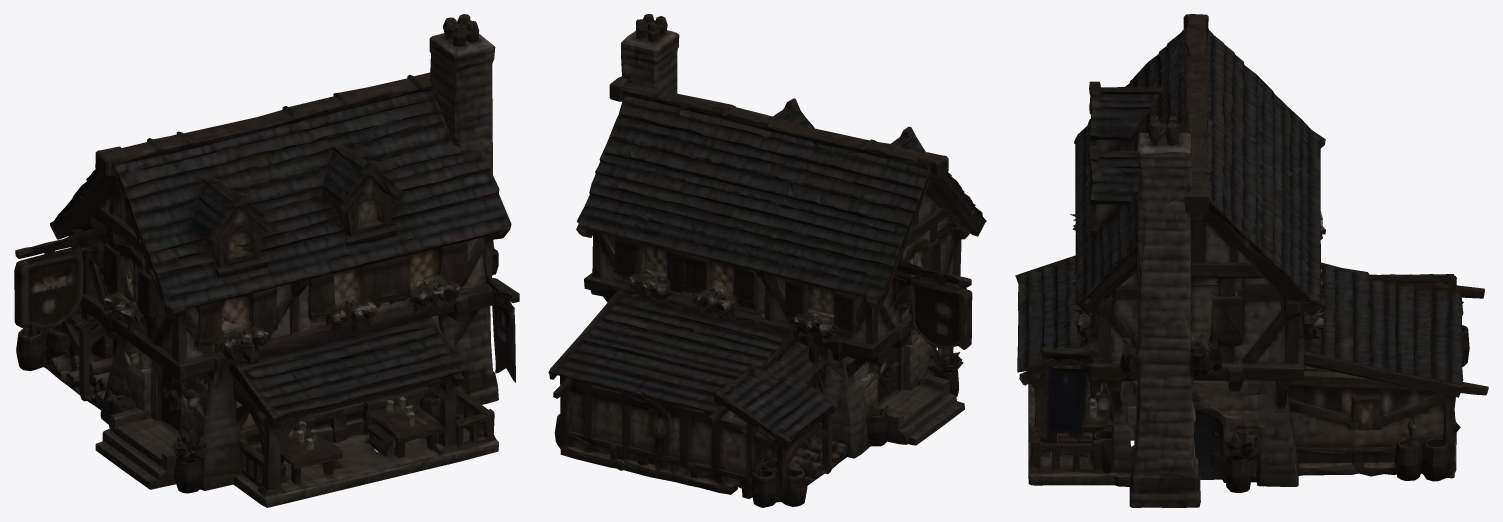
The model's file is war_tavern_gutted_01.glb.
3 views of the same model, side by side, from view 1: azimuth 30°, elevation 25°; view 2: azimuth 150°, elevation 25°; view 3: azimuth 270°, elevation 25° (orthographic). The views are drawn at different scales.
Parts seen in each view (by area): view 1: geometry_0; view 2: geometry_0; view 3: geometry_0.
Part boxes in pixels (box(x1,y1,x2,y2)): geometry_0: box(14, 14, 519, 507); geometry_0: box(548, 14, 986, 507); geometry_0: box(1015, 14, 1488, 507).
Size of the model in its own units: 0.9981 by 0.8409 by 0.9499.
Materials: 1 (1 with a texture image).
